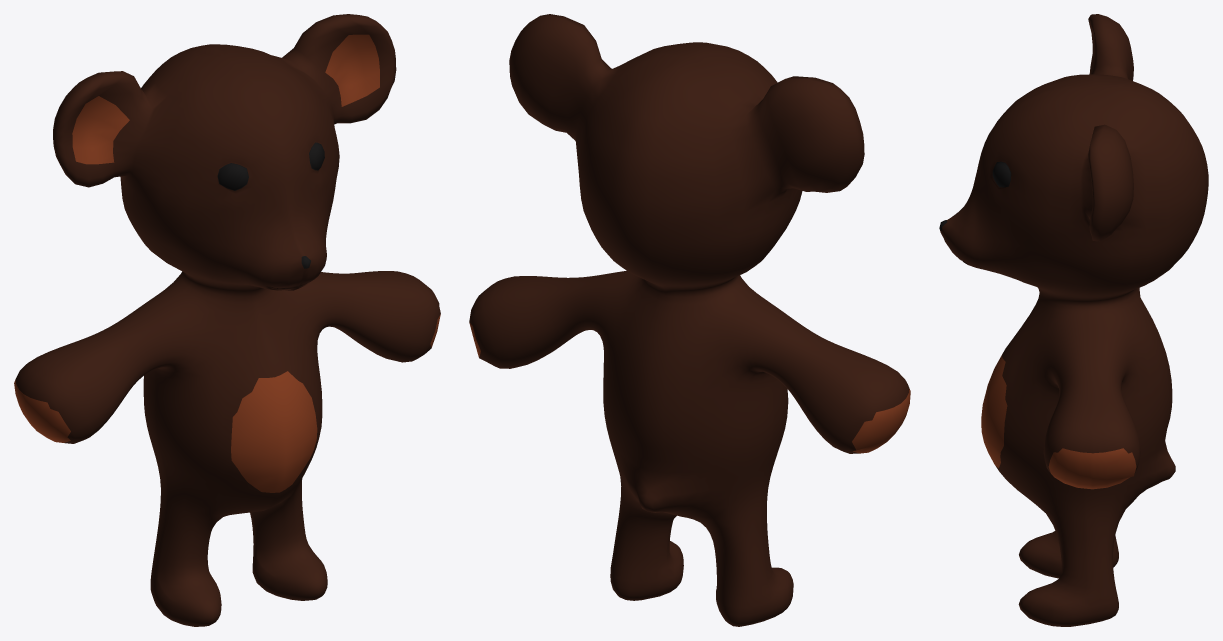
File: Teddymodel.fbx
The picture shows the model from 3 angles, left to right: view 1: azimuth 30°, elevation 25°; view 2: azimuth 150°, elevation 25°; view 3: azimuth 270°, elevation 25°; orthographic projection. The views are drawn at different scales.
Parts seen in each view (by area): view 1: Sphere; view 2: Sphere; view 3: Sphere.
Boxes of the visible parts, x1,y1,x2,y2 form: Sphere: (14, 14, 440, 626); Sphere: (469, 14, 910, 626); Sphere: (939, 14, 1208, 626).
Bounding box in the file's own units: 262 × 336 × 157.
